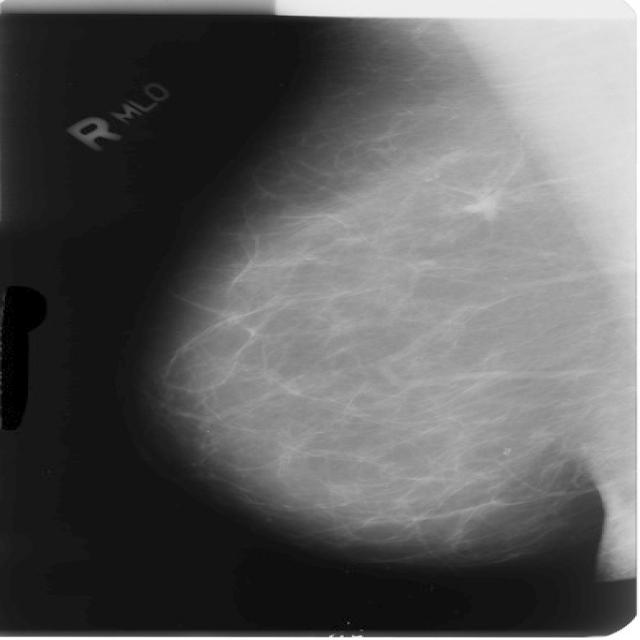tumour: (462, 188, 503, 218)
